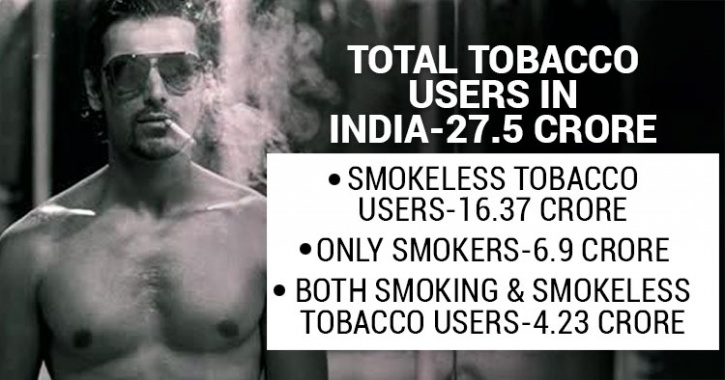cigarette: (161, 117, 199, 143)
